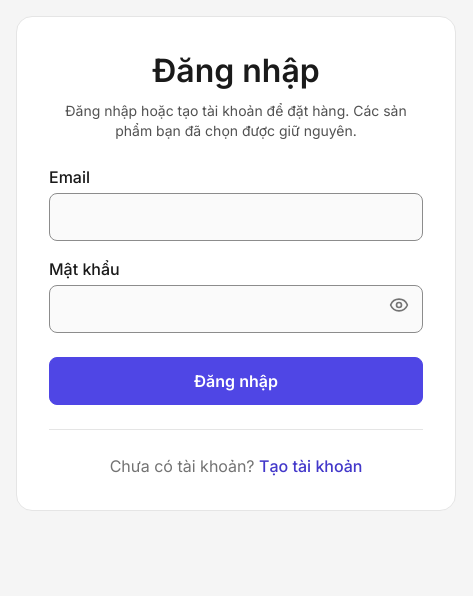
LoginPage › submit_showsGenericAlert_whenEmailOrPasswordWrong
The width and height of the screenshot is (473, 596).
Type "an@example.com" into the field labelled "Email".
click(236, 217); type("an@example.com")  # box [49,193,423,241]
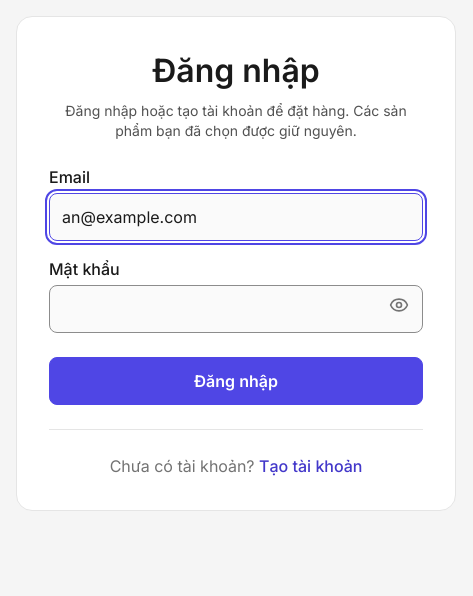
Type "Sai1!sai" into the password field labelled "Mật khẩu".
click(236, 309); type("Sai1!sai")  # box [49,285,423,333]
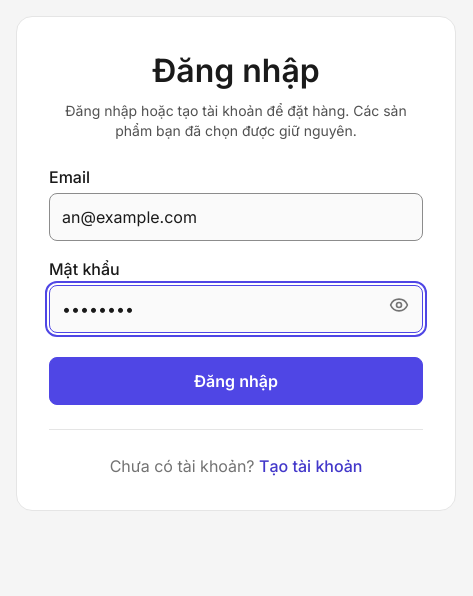
Click the button "Đăng nhập".
click(236, 381)  # box [49,357,423,405]
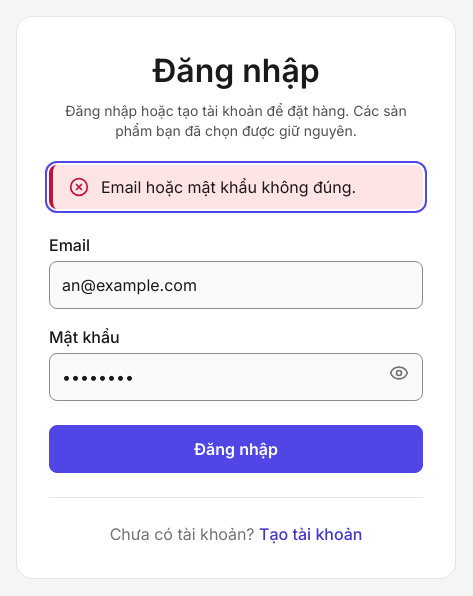
Check: the message reads "Email hoặc mật khẩu không đúng.", box [101,177,356,197]
